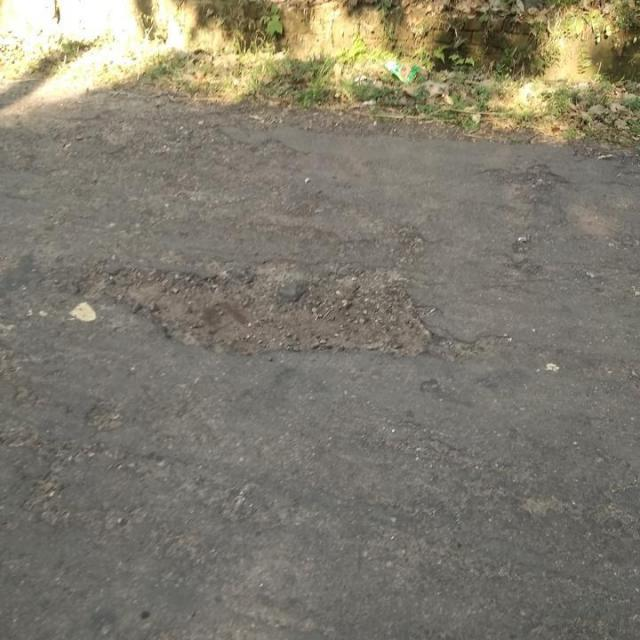buraco: (74, 256, 442, 364), (101, 270, 437, 355), (481, 162, 568, 186)
